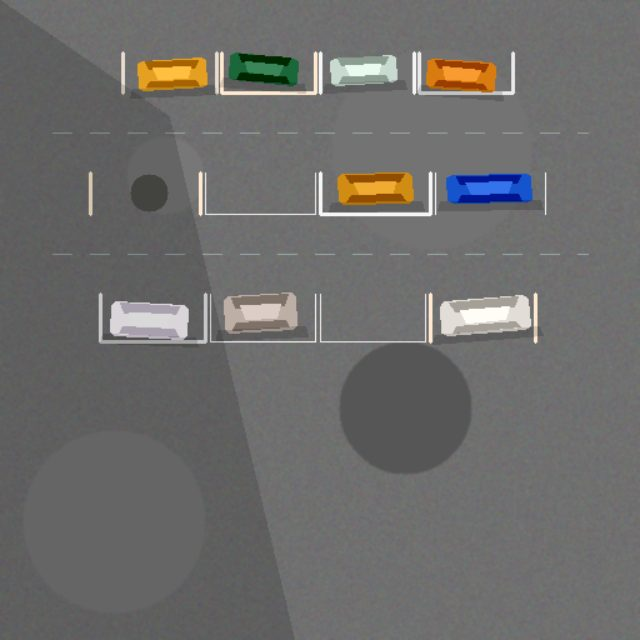space-empty: (320, 294, 425, 341), (90, 173, 200, 214), (205, 173, 315, 214)
space-occupied: (100, 294, 205, 341), (210, 294, 315, 341), (430, 294, 535, 341), (320, 173, 430, 214), (435, 173, 545, 214), (122, 52, 216, 92), (221, 52, 315, 92), (320, 52, 414, 92), (419, 52, 512, 92)
